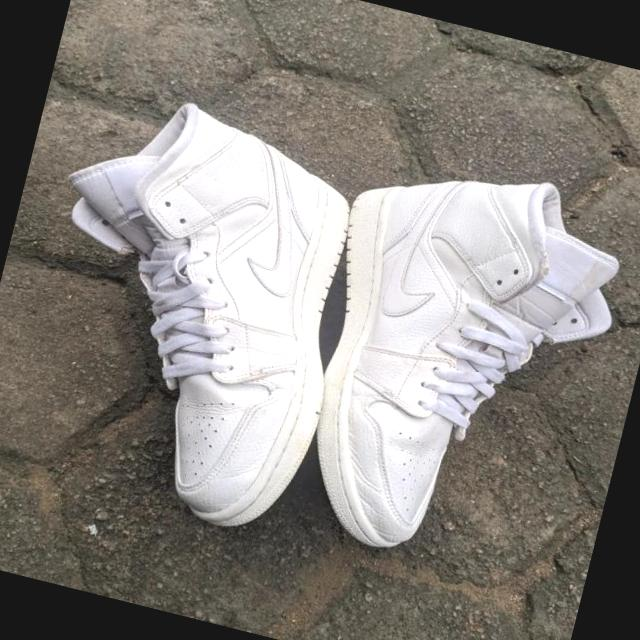nike_fake_jordan: (0, 92, 381, 549), (276, 139, 640, 589)
